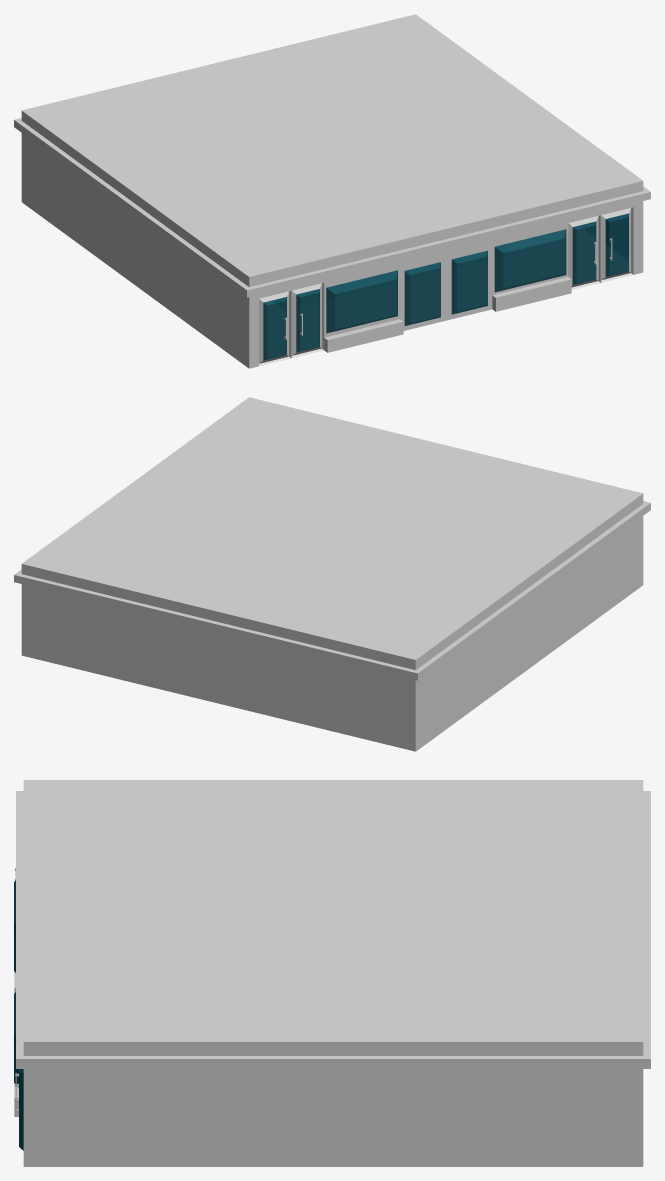
File: building_office_02_base.fbx
3 views of the same model, one above another, from view 1: azimuth 30°, elevation 25°; view 2: azimuth 150°, elevation 25°; view 3: azimuth 270°, elevation 25° (orthographic). The views are drawn at different scales.
Parts seen in each view (by area): view 1: building_office_02_base, building_office_02_base_glass; view 2: building_office_02_base; view 3: building_office_02_base, building_office_02_base_glass.
Part boxes in pixels (x1,y1,x2,y2): building_office_02_base: (14,14,650,368); building_office_02_base_glass: (263,213,628,360); building_office_02_base: (14,397,650,751); building_office_02_base: (14,780,650,1166); building_office_02_base_glass: (14,880,23,1150).
Size of the model in its own units: 1844 by 400 by 1850.
